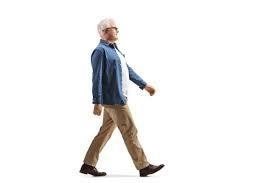Human: (71, 11, 170, 183)
